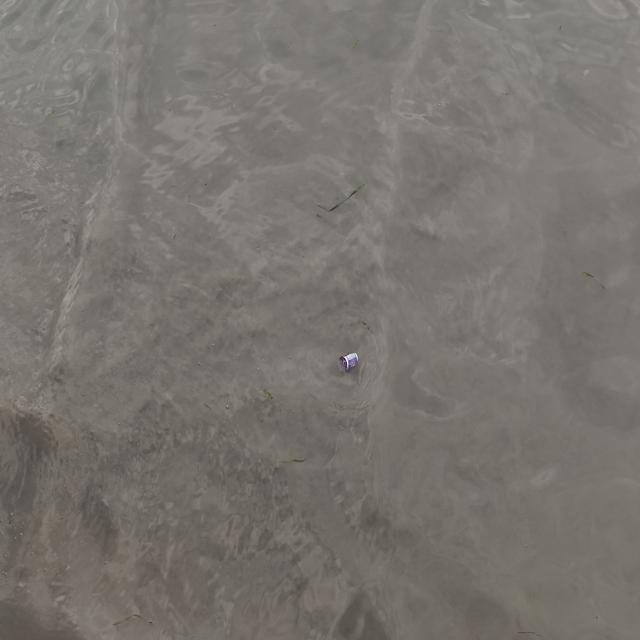Bungkus Minuman: (338, 348, 368, 382)
